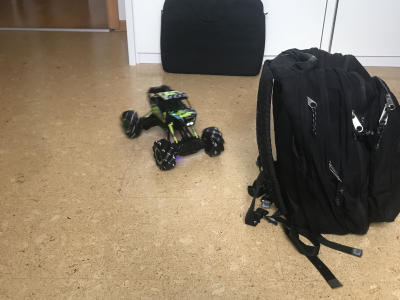remote control car: (120, 81, 227, 172)
